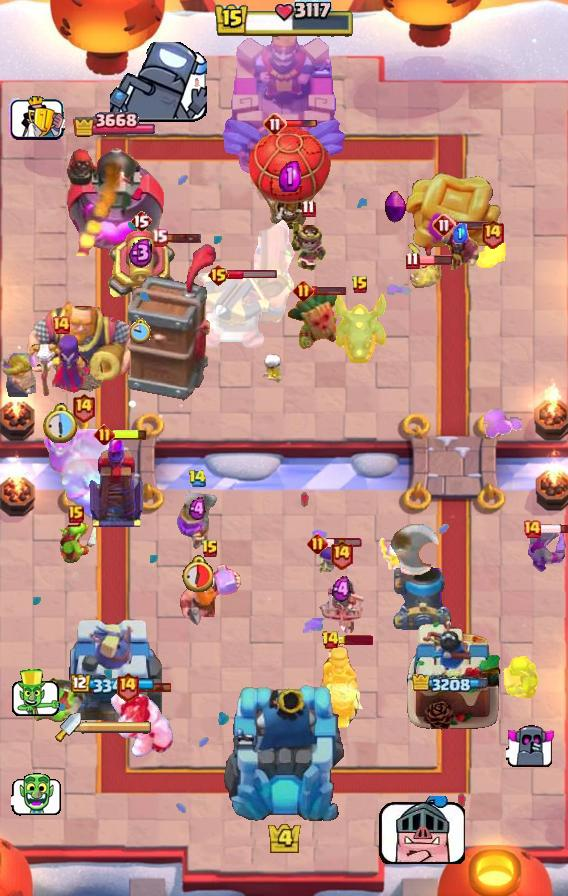axe: (387, 523, 443, 577)
bar: (227, 269, 278, 280), (112, 428, 148, 441), (326, 537, 363, 549), (165, 232, 202, 244), (137, 681, 173, 693), (417, 254, 453, 266), (454, 219, 490, 231), (312, 285, 347, 296), (337, 635, 373, 645), (284, 119, 318, 129), (540, 523, 568, 535)
bar-level: (115, 671, 140, 702), (329, 539, 354, 570), (71, 392, 96, 423), (480, 218, 505, 249), (432, 213, 456, 237), (263, 112, 287, 136), (207, 263, 230, 287), (130, 209, 152, 233), (307, 533, 328, 554), (94, 424, 115, 445), (293, 280, 314, 301), (522, 519, 542, 539), (51, 315, 71, 335), (321, 630, 340, 650), (188, 469, 207, 488), (201, 539, 219, 559), (351, 275, 369, 295), (151, 228, 168, 247), (68, 505, 84, 523), (405, 251, 420, 270), (301, 199, 316, 218)
cannoneer-tower: (64, 138, 165, 256)
clock: (43, 403, 80, 444), (181, 555, 213, 592), (130, 318, 152, 344)
dagger-duchess-tower: (66, 611, 162, 731)
dagger-duchess-tower-bar: (81, 720, 153, 734)
dart-goblin: (286, 287, 342, 351)
electro-dragon: (331, 291, 389, 365)
elite-barbarian: (0, 351, 36, 398)
elixir: (128, 237, 154, 268), (279, 161, 301, 192), (332, 576, 351, 603), (189, 497, 206, 521), (453, 223, 468, 243)
emote: (110, 42, 207, 126), (376, 796, 465, 864), (7, 96, 65, 141), (10, 669, 62, 719), (506, 724, 556, 768), (11, 773, 62, 816)
evolution-symbol: (384, 190, 406, 224)
goblin: (525, 525, 567, 573), (500, 651, 540, 701), (54, 521, 98, 565)
goblin-ball: (30, 677, 84, 725)
king-tower: (220, 21, 348, 181), (221, 682, 347, 826)
king-tower-bar: (213, 0, 355, 40)
lava-pup: (408, 260, 442, 292), (475, 242, 509, 274)
little-prince: (286, 222, 330, 274)
lumberjack: (178, 564, 242, 628)
mortar: (393, 567, 453, 631)
musketeer: (176, 488, 218, 552)
princess: (316, 575, 366, 633)
queen-tower: (404, 617, 502, 731)
ram-rider: (317, 645, 363, 729)
skeleton: (378, 538, 410, 574), (256, 352, 286, 386)
skeleton-evolution: (316, 541, 346, 581)
tower-bar: (73, 109, 155, 141), (71, 674, 157, 696), (412, 674, 494, 696)
witch: (29, 332, 93, 402)
wizard: (438, 224, 482, 276)
